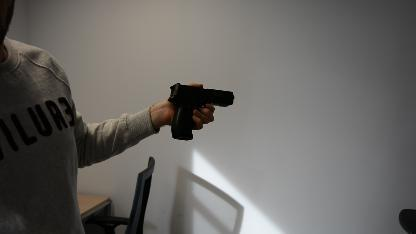pistol: (166, 82, 234, 140)
